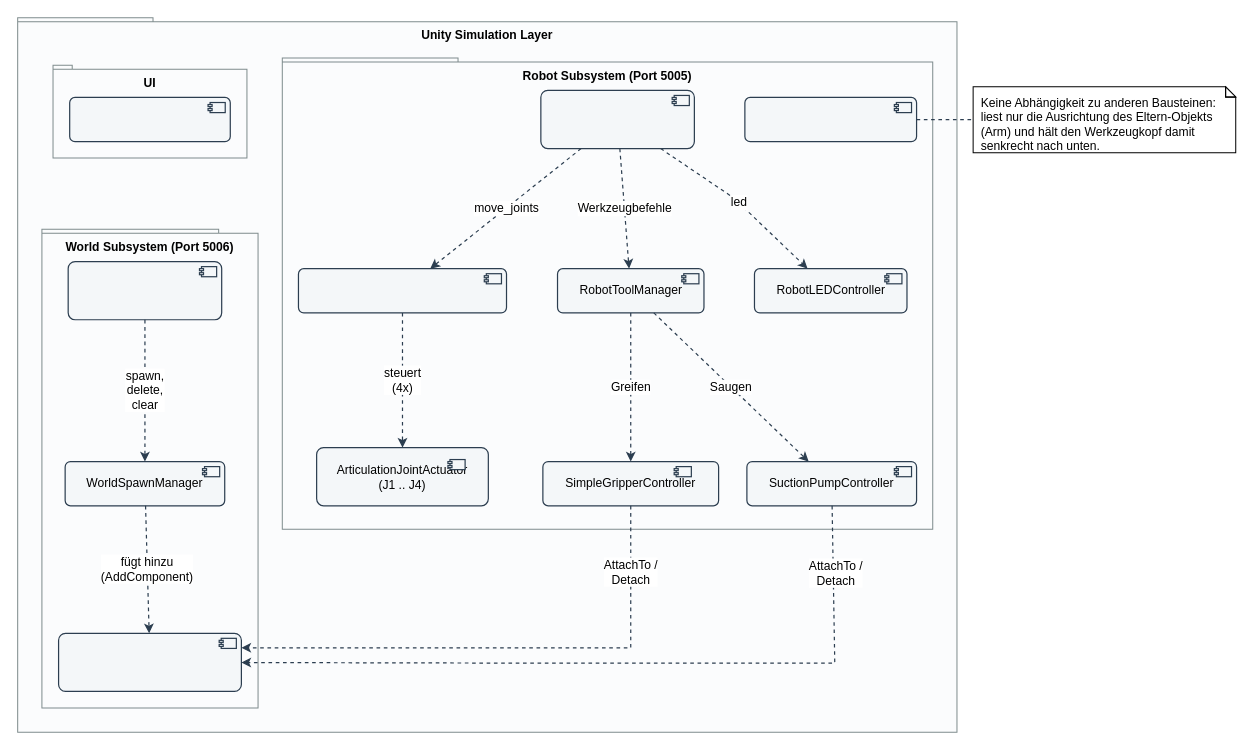
Image size: 1253x750. Some labels were removed from this diagram. Each missing label, with the centre of its shape:
CameraViewManager: point (149, 119)
GrabbableObject (nur dynamische Objekte): point (149, 662)
GripperDownConstraint: point (830, 119)
MyPalletizerArticulationAdapter: point (402, 290)
UnityUdpBridge (Port 5005 Receiver): point (617, 119)
WorldUdpBridge (Port 5006 Receiver): point (144, 290)
